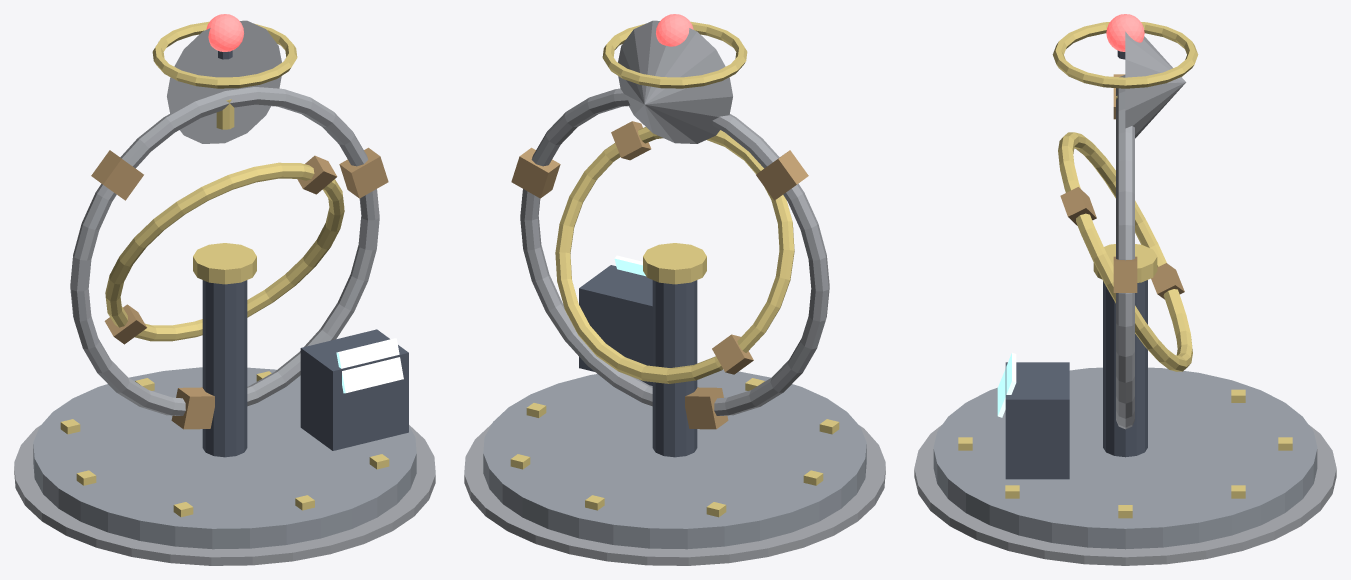
Rendered from zamanator.glb.
3 renders of one model, left to right at view 1: azimuth 30°, elevation 25°; view 2: azimuth 150°, elevation 25°; view 3: azimuth 270°, elevation 25°, orthographic.
Visible parts, largest first — view 1: Platform, RingA, Console, RingB, Column, Funnel, Lamp; view 2: Platform, RingA, Funnel, RingB, Column, Console, Lamp; view 3: Platform, Console, RingB, RingA, Funnel, Column, Lamp.
Boxes of the visible parts, x1=… form: Platform: x1=14, y1=367, x2=435, y2=565; RingA: x1=70, y1=87, x2=388, y2=429; Console: x1=300, y1=329, x2=408, y2=450; RingB: x1=104, y1=155, x2=344, y2=344; Column: x1=193, y1=243, x2=256, y2=457; Funnel: x1=152, y1=20, x2=297, y2=143; Lamp: x1=206, y1=14, x2=243, y2=59; Platform: x1=464, y1=369, x2=885, y2=565; RingA: x1=511, y1=88, x2=829, y2=429; Funnel: x1=602, y1=20, x2=747, y2=143; RingB: x1=555, y1=121, x2=794, y2=383; Column: x1=643, y1=243, x2=706, y2=457; Console: x1=579, y1=255, x2=652, y2=385; Lamp: x1=656, y1=14, x2=693, y2=46; Platform: x1=914, y1=367, x2=1336, y2=565; Console: x1=997, y1=352, x2=1069, y2=479; RingB: x1=1058, y1=132, x2=1192, y2=371; RingA: x1=1113, y1=74, x2=1137, y2=429; Funnel: x1=1052, y1=22, x2=1198, y2=138; Column: x1=1093, y1=244, x2=1157, y2=457; Lamp: x1=1106, y1=14, x2=1144, y2=59.
Size of the model in its own units: 2.64 by 3.18 by 2.64.
